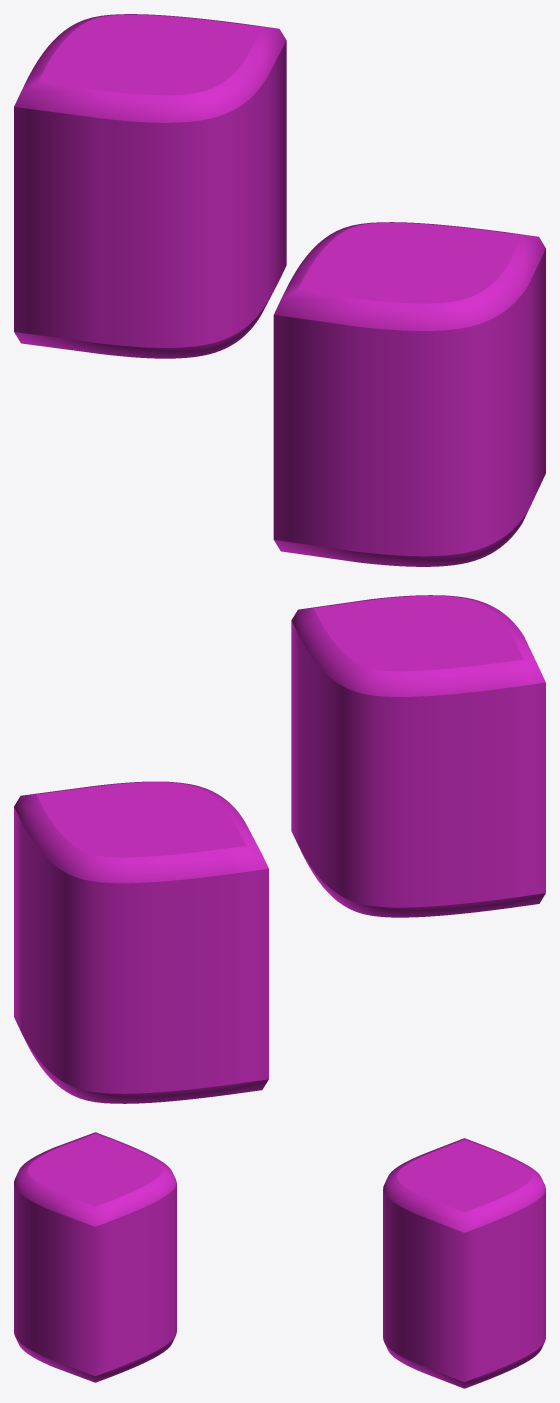
The model's file is Colon.fbx.
3 renders of one model, top to bottom at view 1: azimuth 30°, elevation 25°; view 2: azimuth 150°, elevation 25°; view 3: azimuth 270°, elevation 25°, orthographic. The views are drawn at different scales.
Visible parts, largest first — view 1: Colon; view 2: Colon; view 3: Colon.
Part boxes in pixels (box(x1,y1,x2,y2)): Colon: box(14, 14, 545, 566); Colon: box(14, 595, 545, 1103); Colon: box(14, 1132, 545, 1388).
Size of the model in its own units: 0.1622 by 0.14 by 0.3872.
